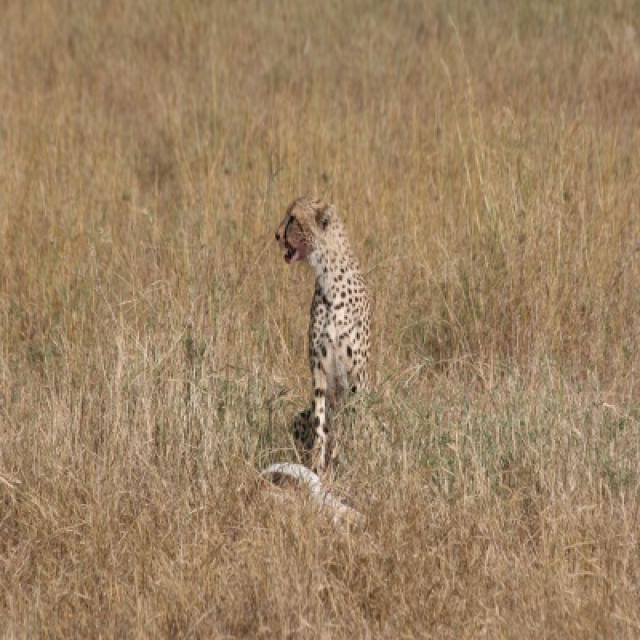Cheetah: (275, 195, 370, 474)
